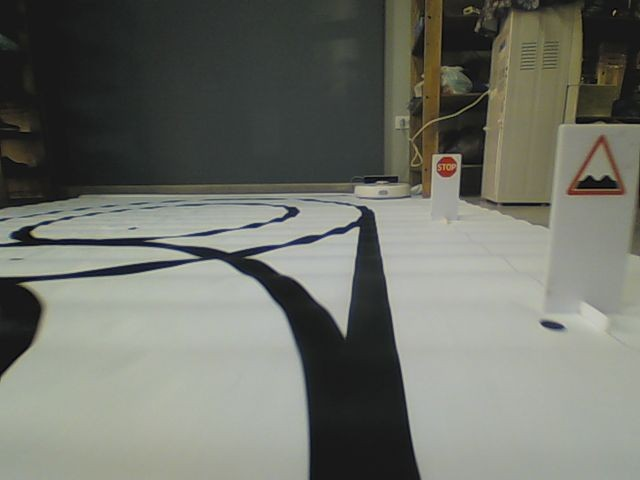Stop: (434, 155, 457, 177)
